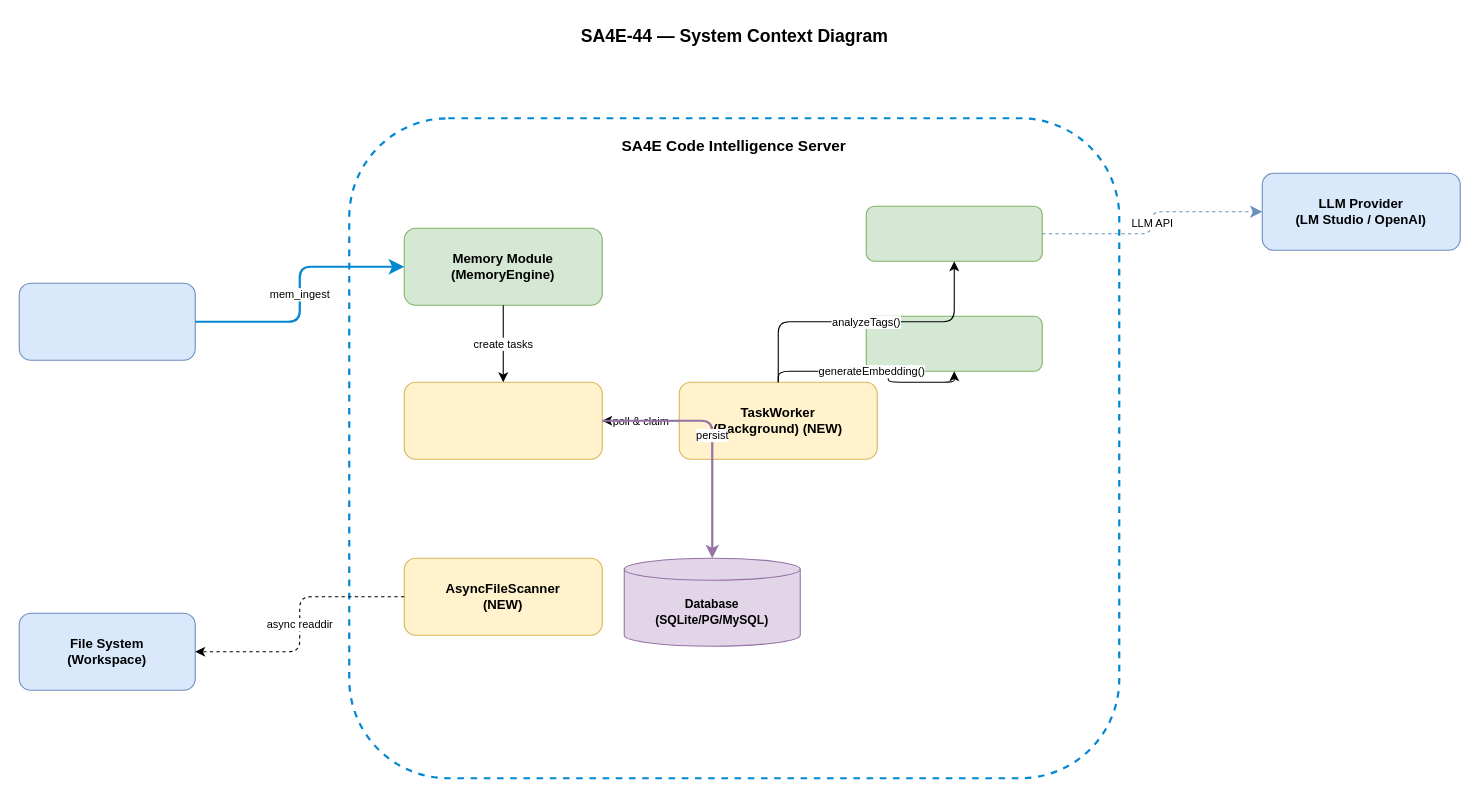
The diagram is 1480 pixels wide and 798 high, and some of its shapes have lost their labels. Each missing label, with the centre of its shape:
"EmbeddingService (Worker Thread)" belongs at point 953,343.
"MCP Client (IDE Extension)" belongs at point 106,321.
"TagAnalyzerService" belongs at point 953,233.
"Task Persistence Layer (NEW)" belongs at point 502,420.
